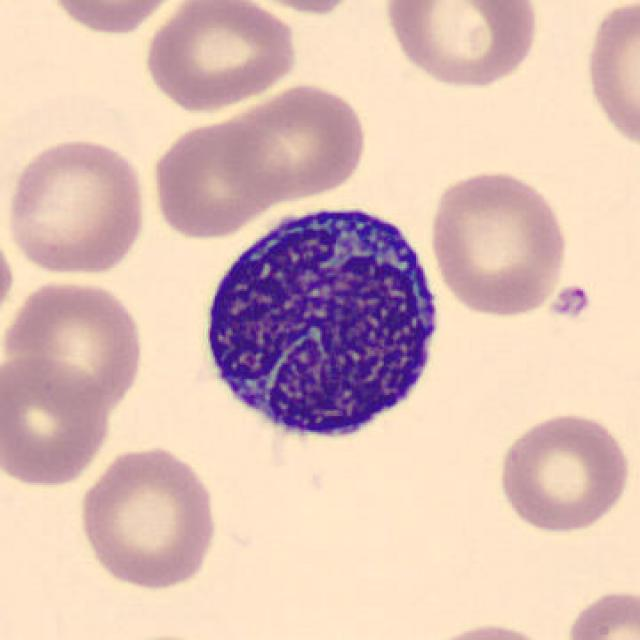Monocyte: (190, 188, 452, 458)
Platelets: (546, 282, 596, 325)
RBC: (425, 166, 572, 319), (75, 441, 222, 592), (2, 134, 151, 279), (2, 275, 149, 416), (217, 79, 370, 203), (140, 0, 300, 115), (492, 407, 633, 536), (148, 115, 288, 242), (0, 354, 114, 490), (380, 0, 542, 92), (579, 0, 640, 155), (38, 0, 190, 37), (560, 585, 638, 640), (416, 619, 558, 640), (228, 0, 374, 16), (0, 220, 18, 338)
